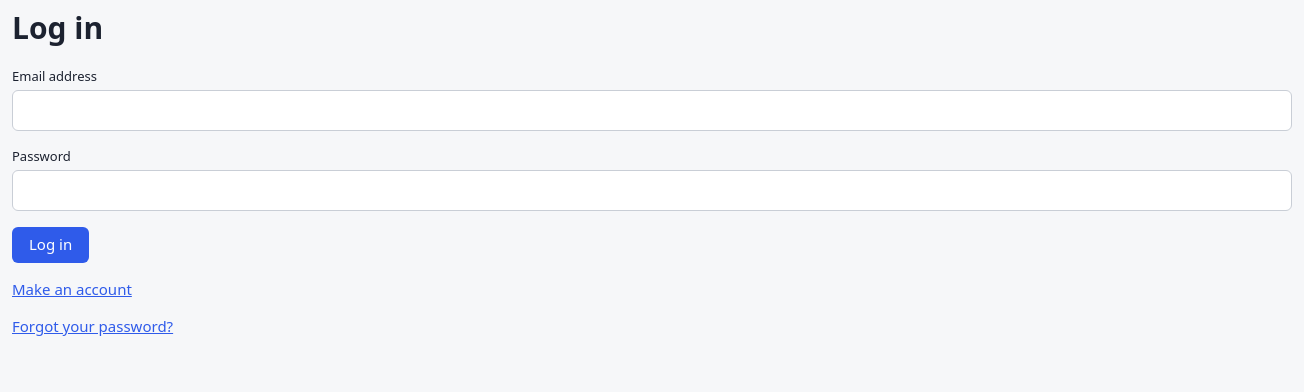
Test: auth pages › login shows the error of allauth at the form
The width and height of the screenshot is (1304, 392).
In the field labelled "Email address": x=652, y=110 [12, 90, 1292, 131], type "ann@example.com"
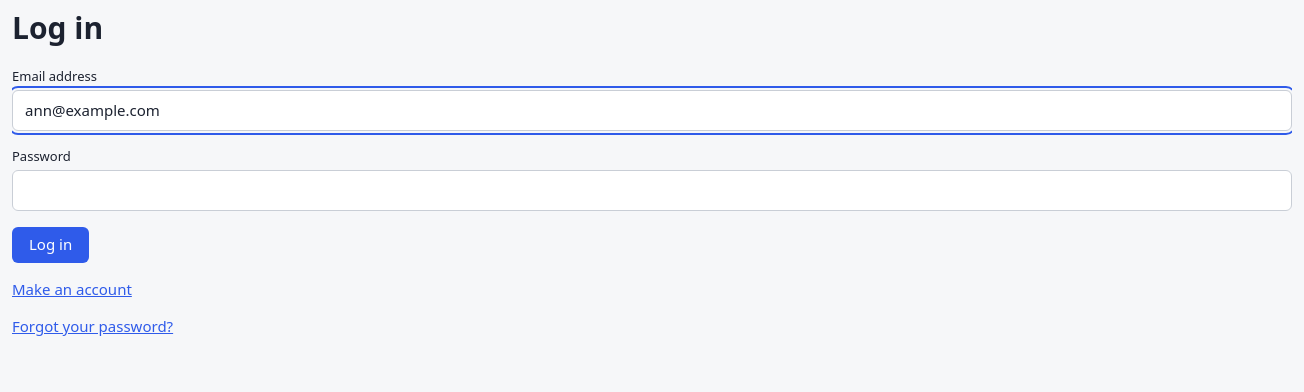
In the password field labelled "Password": x=652, y=190 [12, 170, 1292, 211], type "a-long-password-1"
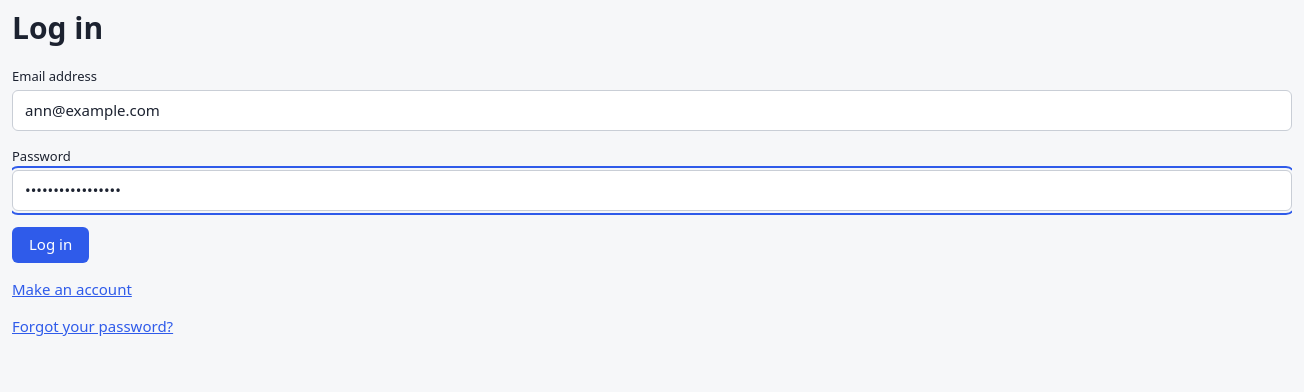
Click the button "Log in": x=51, y=245 [12, 227, 89, 263]
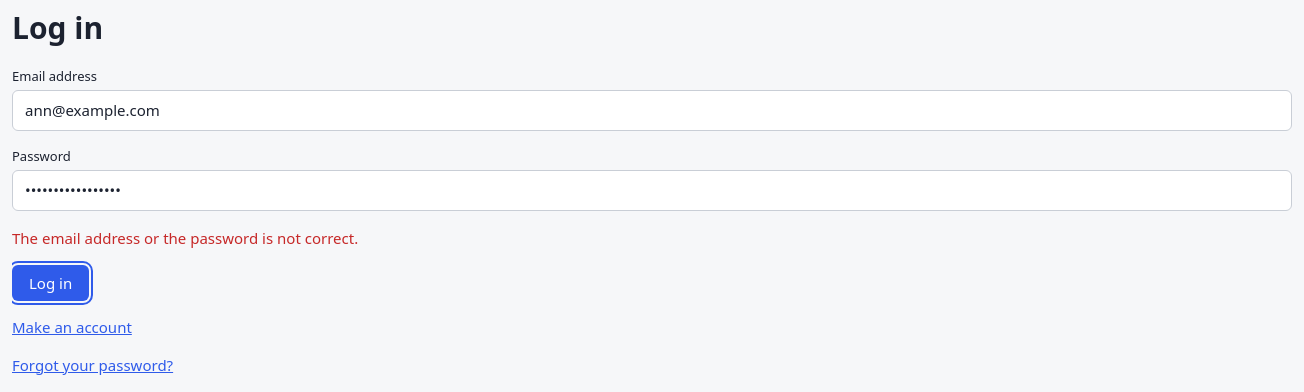
Now the message reads "The email address or the password is not correct.", box [12, 228, 358, 248]
